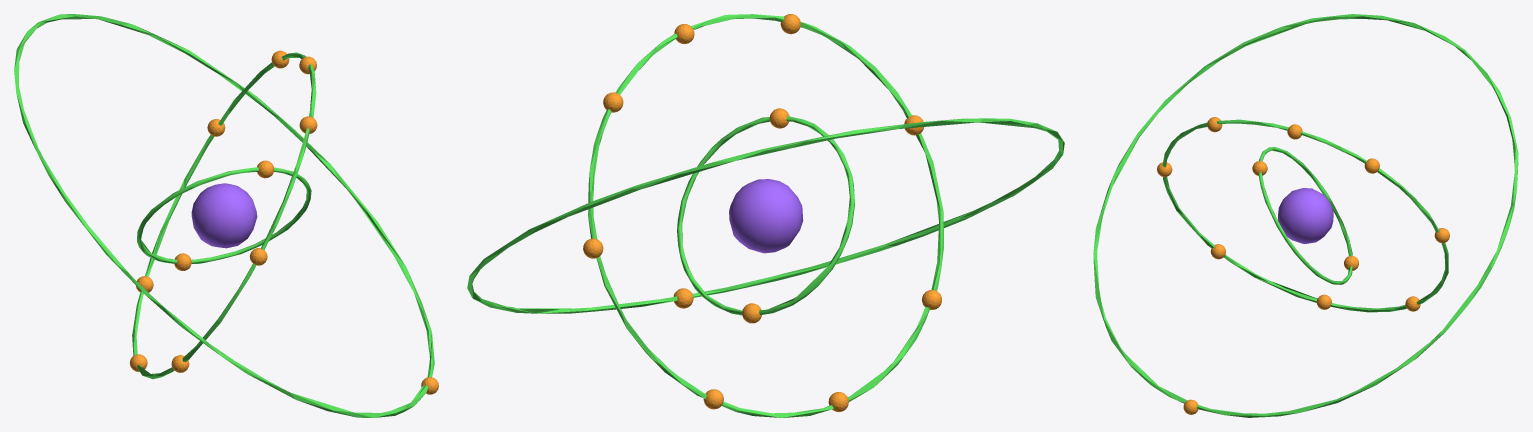
Rendered from sodium2.glb.
3 views of the same model, side by side, from view 1: azimuth 30°, elevation 25°; view 2: azimuth 150°, elevation 25°; view 3: azimuth 270°, elevation 25° (orthographic). The views are drawn at different scales.
Visible parts, largest first — view 1: Torus.002, Nucleo, Torus.001, Torus, Nivel p; view 2: Torus.002, Torus.001, Nucleo, Torus, Nivel p; view 3: Torus.002, Torus.001, Nucleo, Nivel p, Torus.
Boxes of the visible parts, x1,y1,x2,y2 form: Torus.002: (14,14,434,417); Nucleo: (191,183,257,248); Torus.001: (132,52,316,379); Torus: (137,167,311,263); Nivel p: (130,50,317,372); Torus.002: (467,118,1064,313); Torus.001: (588,14,943,417); Nucleo: (729,179,803,253); Torus: (677,116,854,315); Nivel p: (583,14,941,411); Torus.002: (1093,14,1518,417); Torus.001: (1162,119,1448,312); Nucleo: (1278,188,1333,243); Nivel p: (1157,117,1449,311); Torus: (1258,147,1352,284).
Bounding box in the file's own units: 52.74 × 39.7 × 55.87.
